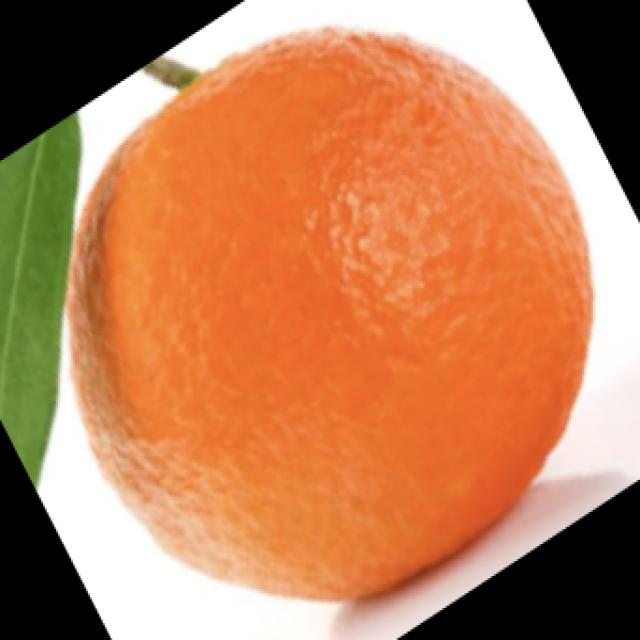fresh: (23, 25, 611, 622)
